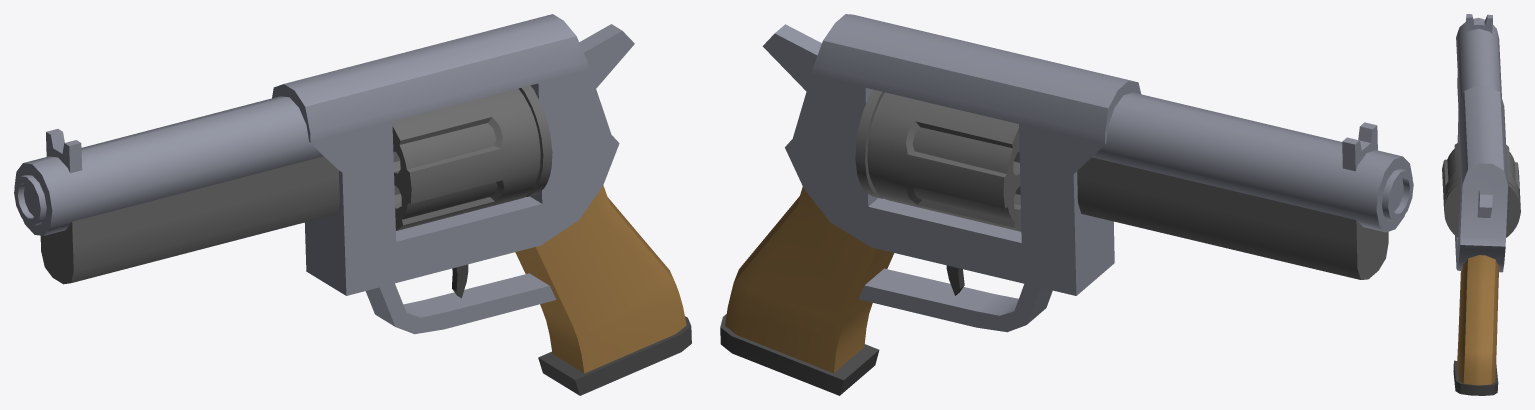
The model's file is Revolver.glb.
3 views of the same model, side by side, from view 1: azimuth 30°, elevation 25°; view 2: azimuth 150°, elevation 25°; view 3: azimuth 270°, elevation 25° (orthographic). The views are drawn at different scales.
Visible parts, largest first — view 1: Revolver; view 2: Revolver; view 3: Revolver.
Part boxes in pixels (box(x1,y1,x2,y2)): Revolver: box(14, 14, 691, 395); Revolver: box(720, 14, 1413, 395); Revolver: box(1442, 14, 1520, 395).
Size of the model in its own units: 0.9888 by 0.5289 by 0.1751.
